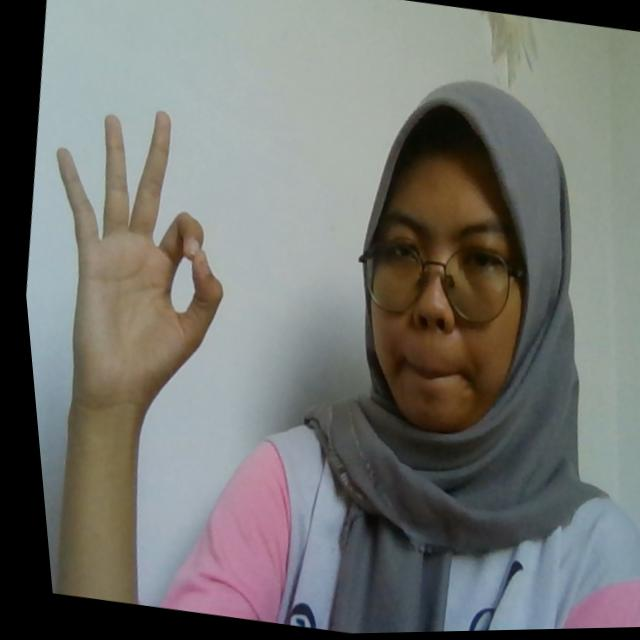F: (10, 91, 256, 425)
